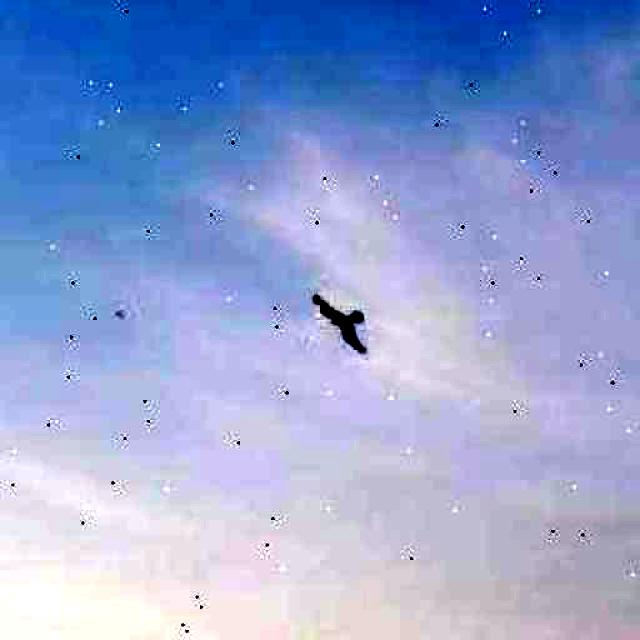airplane: (312, 286, 370, 360), (118, 311, 124, 318)
